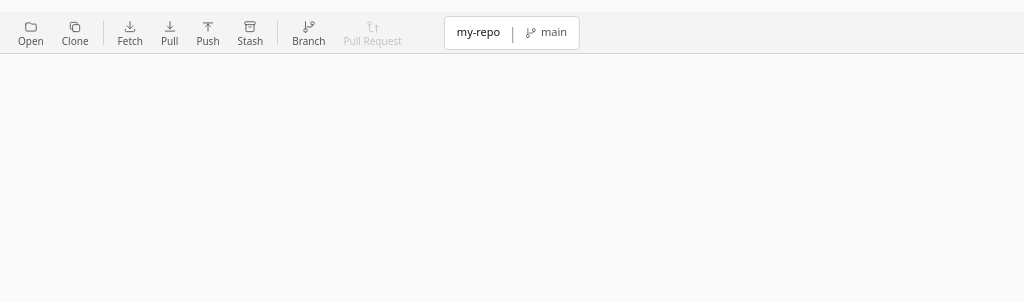
Test: ActionToolbar › Push flyover › displays push errors
Click the button with test id "toolbar-btn-Push": (208, 32) x1=188 y1=16 x2=228 y2=50
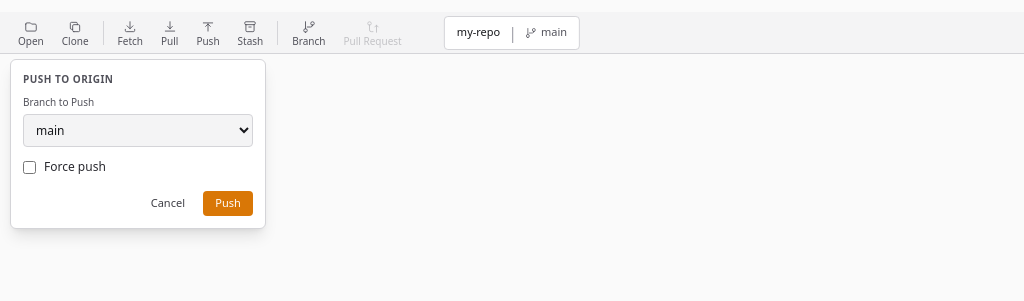
Click the button "Push" below "Force push": (228, 203) x1=203 y1=191 x2=253 y2=216
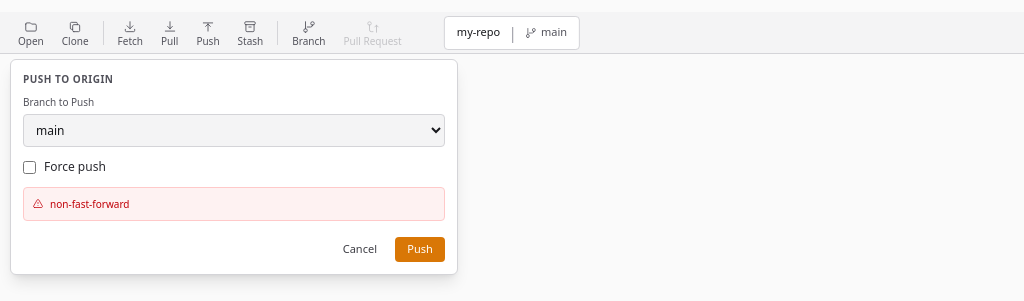
Expected: the text "non-fast-forward" is shown, x1=50 y1=196 x2=130 y2=212
